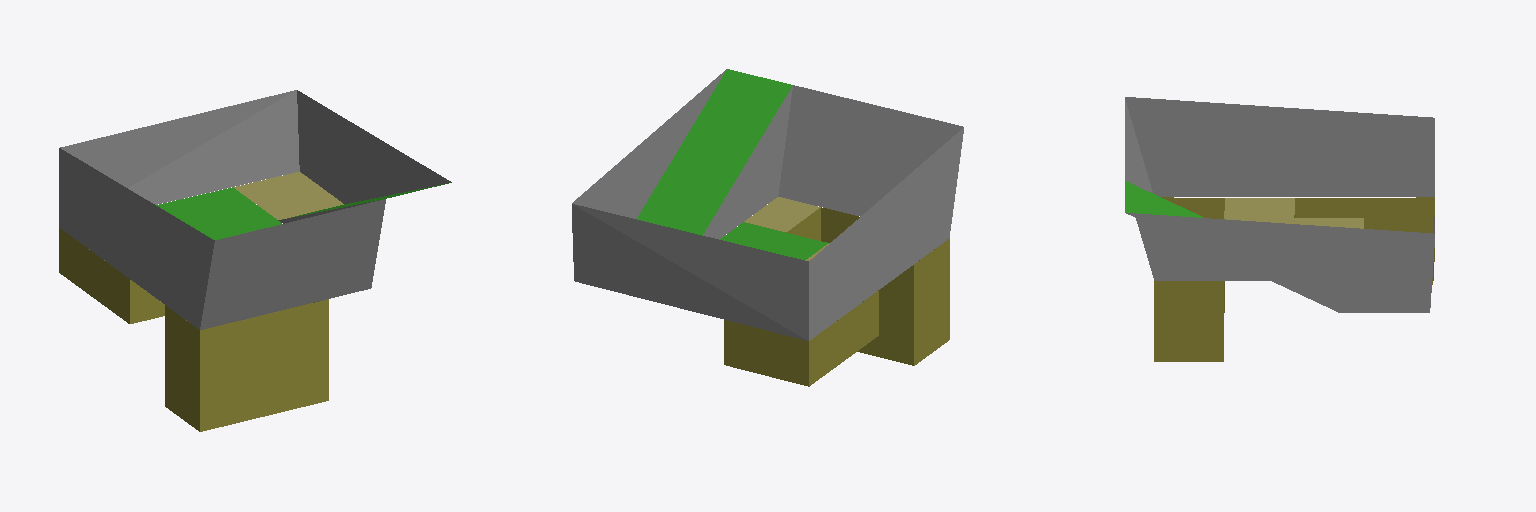
The model's file is BUILD01.obj.
The picture shows the model from 3 angles: view 1: azimuth 30°, elevation 25°; view 2: azimuth 150°, elevation 25°; view 3: azimuth 270°, elevation 25°; orthographic projection.
Visible parts, largest first — view 1: BUILD01_Cube.017; view 2: BUILD01_Cube.017; view 3: BUILD01_Cube.017.
Boxes of the visible parts, <box> form: BUILD01_Cube.017: <box>59,90,451,431</box>; BUILD01_Cube.017: <box>572,69,963,386</box>; BUILD01_Cube.017: <box>1125,97,1434,361</box>.
Size of the model in its own units: 220 by 179 by 249.